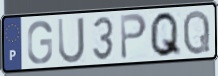3: (90, 15, 116, 62)
G: (26, 19, 54, 66)
P: (119, 12, 149, 62)
Q: (148, 10, 183, 59), (181, 8, 212, 57)
U: (56, 15, 86, 65)
